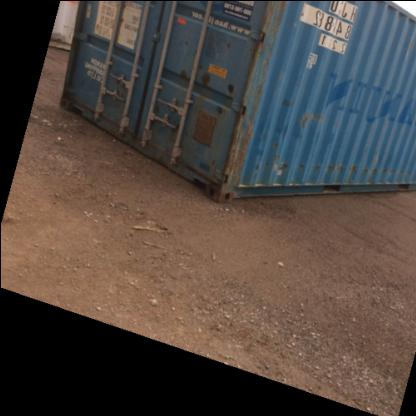Damage: (231, 2, 287, 117), (222, 112, 258, 196), (260, 158, 408, 178), (156, 115, 184, 142), (289, 107, 324, 128), (218, 76, 240, 96), (198, 62, 214, 88), (209, 99, 230, 114)
